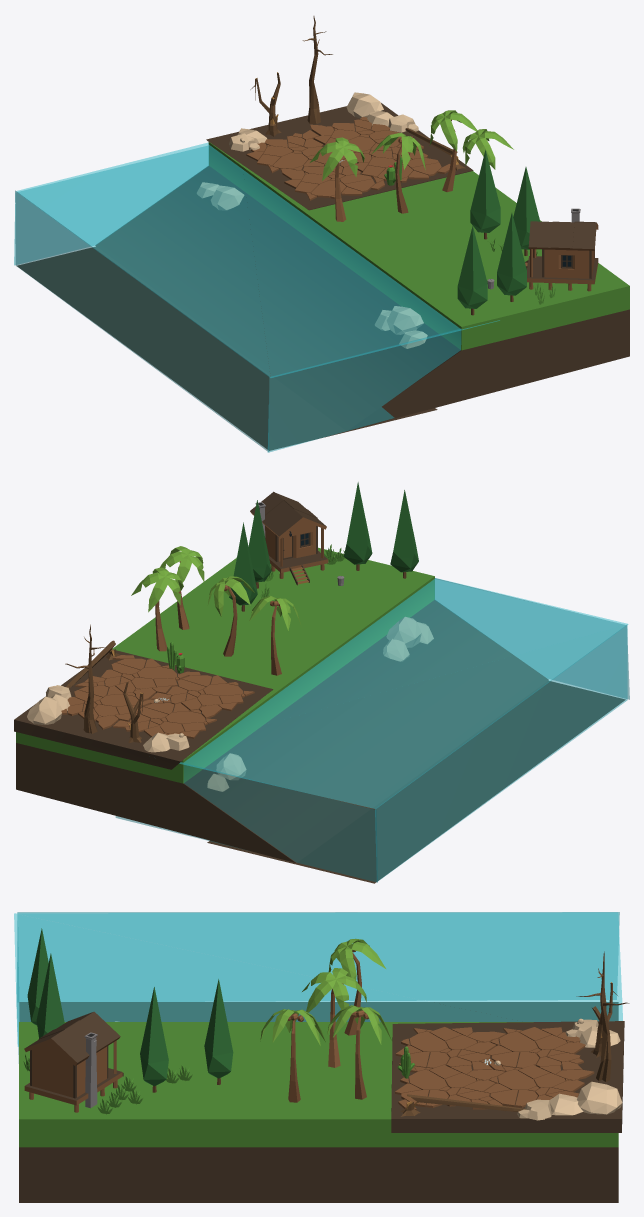
The model's file is quiz.glb.
3 views of the same model, one above another, from view 1: azimuth 30°, elevation 25°; view 2: azimuth 150°, elevation 25°; view 3: azimuth 270°, elevation 25° (orthographic). The views are drawn at different scales.
Parts seen in each view (by area): view 1: tile_plain_grass, tile_water, tile_plain_dirt.001, tile_water.003, tile_water.001, tile_water.002, building_cabin_small, tile_plain_dirt, ground_cracked_dirt, ground_cracked_dirt.001, ground_cracked_dirt.002, ground_cracked_dirt.003 (+12 smaller); view 2: tile_plain_grass, tile_water, tile_plain_dirt.001, tile_water.003, tile_water.002, tile_water.001, tile_plain_dirt, building_cabin_small, ground_cracked_dirt, ground_cracked_dirt.002, ground_cracked_dirt.001, ground_cracked_dirt.003 (+12 smaller); view 3: tile_plain_grass, tile_water, tile_water.003, tile_plain_dirt.001, tile_plain_dirt, building_cabin_small, ground_cracked_dirt, ground_cracked_dirt.001, ground_cracked_dirt.002, ground_cracked_dirt.003, palm_big.001, tree_poplar (+13 smaller).
Boxes of the visible parts, box(x1,y1,x2,y2) form: tile_plain_grass: box(95, 142, 629, 430); tile_water: box(16, 142, 499, 377); tile_plain_dirt.001: box(17, 246, 437, 450); tile_water.003: box(15, 190, 269, 451); tile_water.001: box(267, 328, 461, 452); tile_water.002: box(14, 146, 208, 265); building_cabin_small: box(525, 208, 598, 291); tile_plain_dirt: box(206, 103, 473, 210); ground_cracked_dirt: box(281, 159, 384, 200); ground_cracked_dirt.001: box(246, 130, 345, 172); ground_cracked_dirt.002: box(354, 143, 450, 183); ground_cracked_dirt.003: box(310, 117, 412, 153); tile_plain_grass: box(16, 547, 548, 862); tile_water: box(179, 578, 628, 808); tile_plain_dirt.001: box(207, 680, 625, 883); tile_water.003: box(375, 624, 627, 881); tile_water.002: box(115, 763, 377, 882); tile_water.001: box(434, 578, 629, 699); tile_plain_dirt: box(14, 649, 273, 769); building_cabin_small: box(250, 491, 328, 585); ground_cracked_dirt: box(150, 671, 254, 718); ground_cracked_dirt.002: box(84, 655, 188, 701); ground_cracked_dirt.001: box(113, 699, 216, 738); ground_cracked_dirt.003: box(61, 682, 150, 729); tile_plain_grass: box(19, 1022, 618, 1202); tile_water: box(14, 912, 622, 1046); tile_water.003: box(17, 912, 619, 1001); tile_plain_dirt.001: box(19, 1002, 618, 1021); tile_plain_dirt: box(391, 1021, 624, 1132); building_cabin_small: box(24, 1011, 123, 1112); ground_cracked_dirt: box(395, 1027, 505, 1072); ground_cracked_dirt.001: box(485, 1027, 585, 1071); ground_cracked_dirt.002: box(395, 1065, 505, 1110); ground_cracked_dirt.003: box(484, 1065, 594, 1111); palm_big.001: box(302, 968, 366, 1067); tree_poplar: box(140, 987, 168, 1092).
Bounding box in the file's own units: 32.74 × 15.85 × 40.08.
20 materials, 20 textured.
